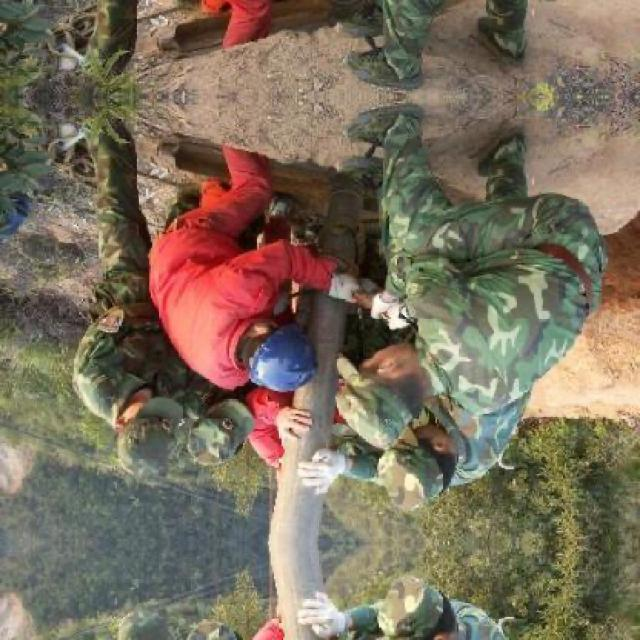con casco: (216, 321, 316, 389)
sin casco: (356, 365, 528, 472), (96, 364, 186, 482), (384, 447, 460, 535), (196, 414, 243, 466)
